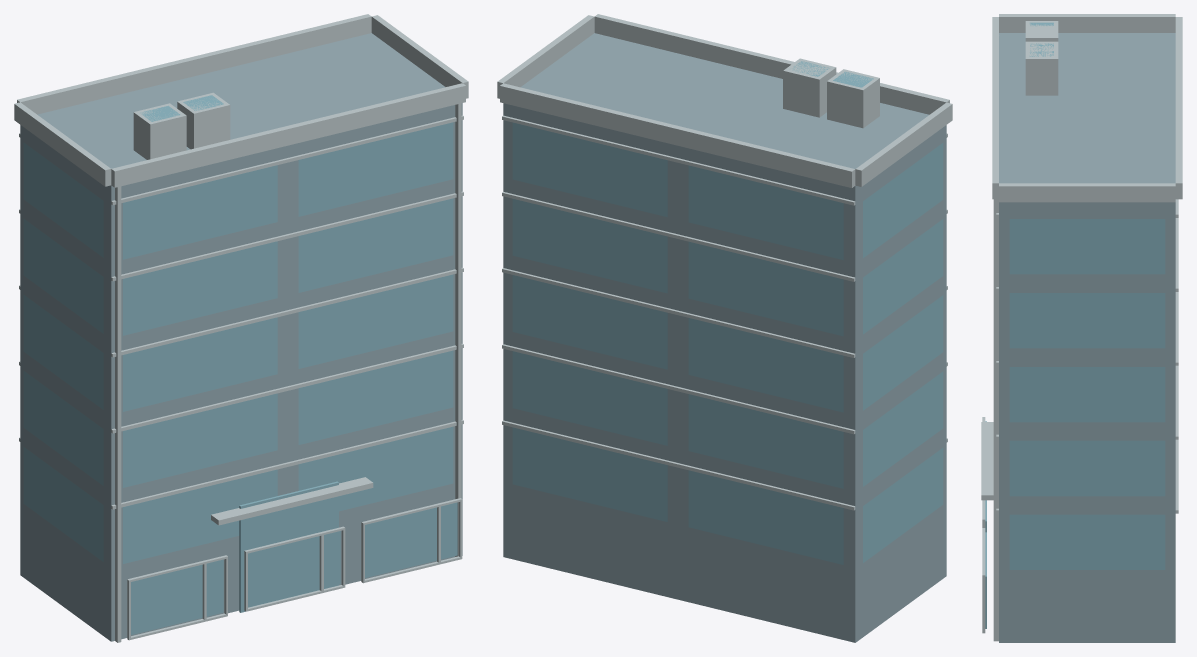
Rendered from commercial_2x1_b.glb.
3 renders of one model, left to right at view 1: azimuth 30°, elevation 25°; view 2: azimuth 150°, elevation 25°; view 3: azimuth 270°, elevation 25°, orthographic. The views are drawn at different scales.
Visible parts, largest first — view 1: commercial_2x1_b_0; view 2: commercial_2x1_b_0; view 3: commercial_2x1_b_0.
Boxes of the visible parts, x1,y1,x2,y2 form: commercial_2x1_b_0: (14,14,468,642); commercial_2x1_b_0: (497,14,952,642); commercial_2x1_b_0: (981,14,1182,642).
Size of the model in its own units: 15 by 19.5 by 7.4.
